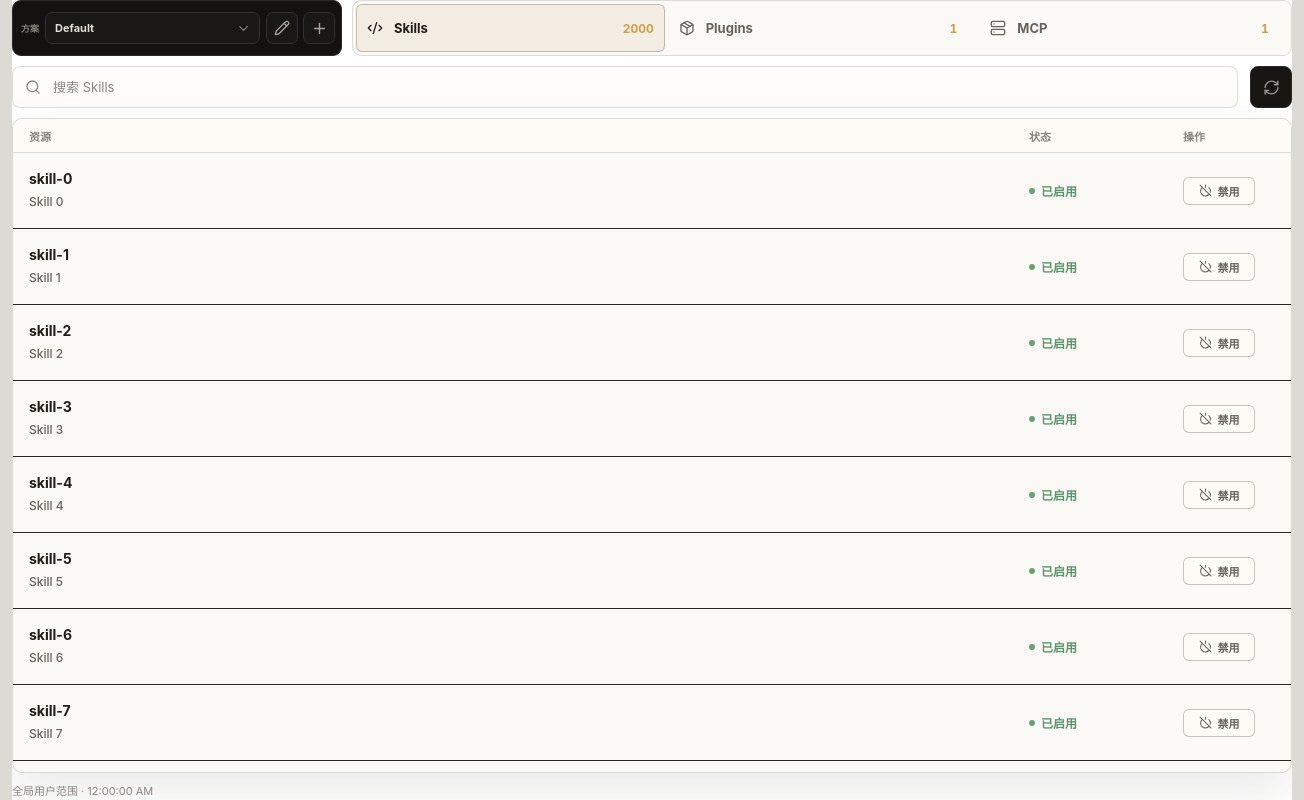
Unified Claude Profiles page › localizes backend operation errors in the Chinese UI
Step 1. Click the button with aria-label "方案：Default" → (152, 28), box 45,12 -> 260,44
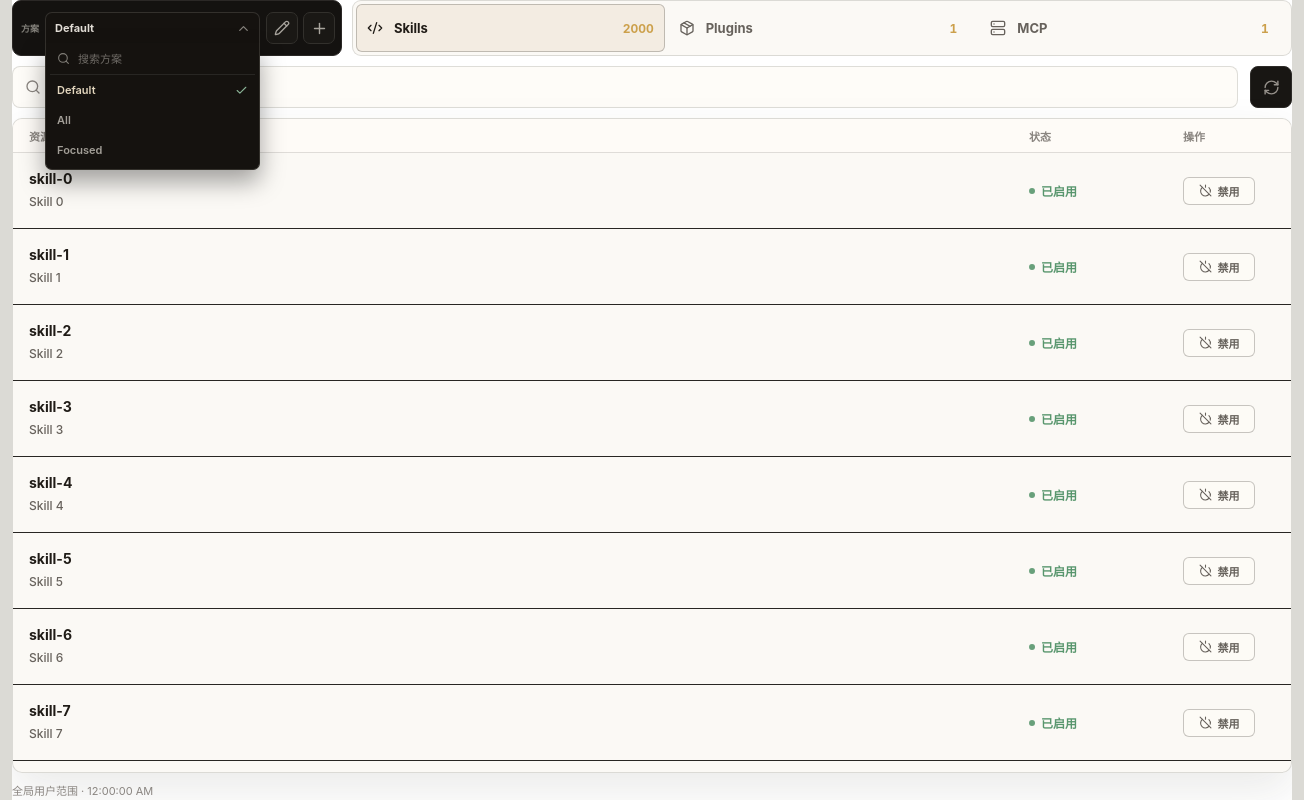
Step 2. Click the option "Focused" → (152, 150), box 50,135 -> 255,165
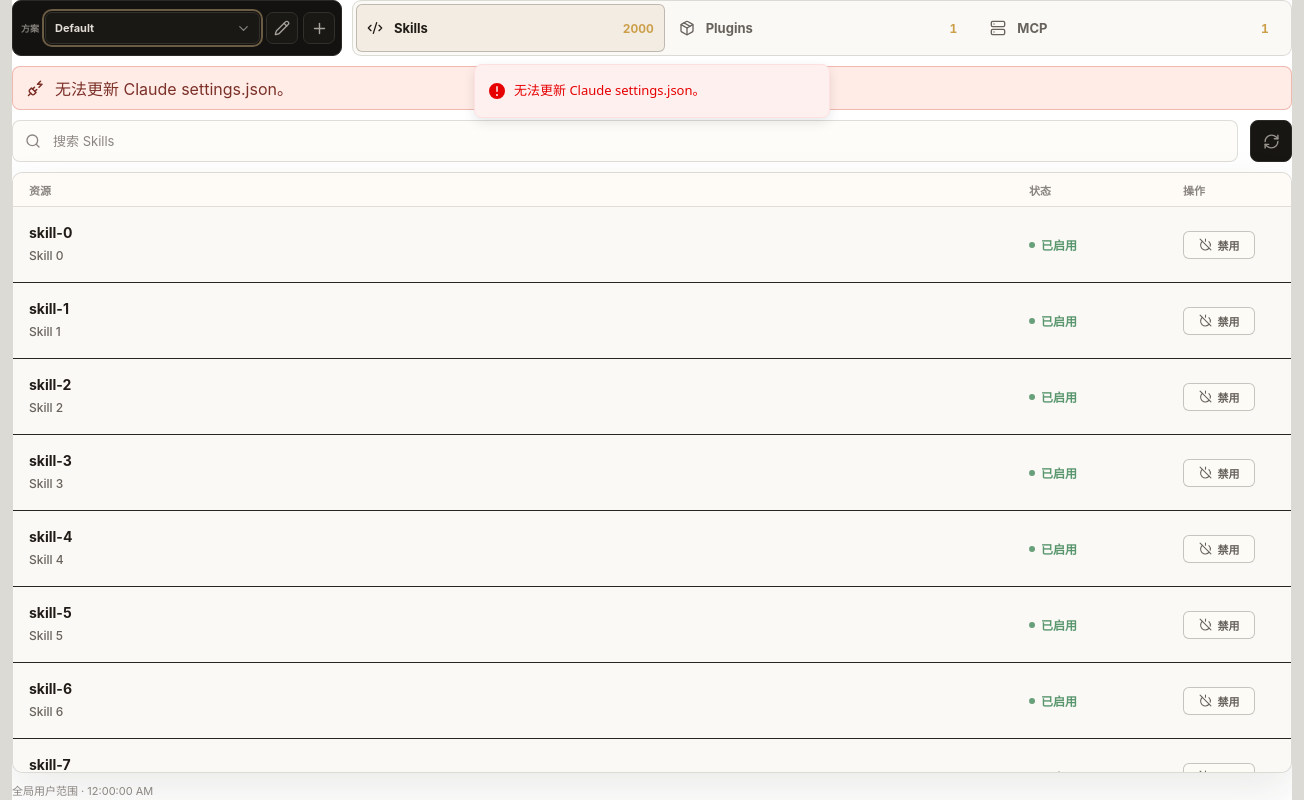
Expected: the button with aria-label "方案：Default" is shown, 45,12 -> 260,44
Expected: the text "无法更新 Claude settings.json。" below "方案" is shown, 55,79 -> 293,99
Expected: the text "无法更新 Claude settings.json。" is shown, 514,81 -> 706,100
